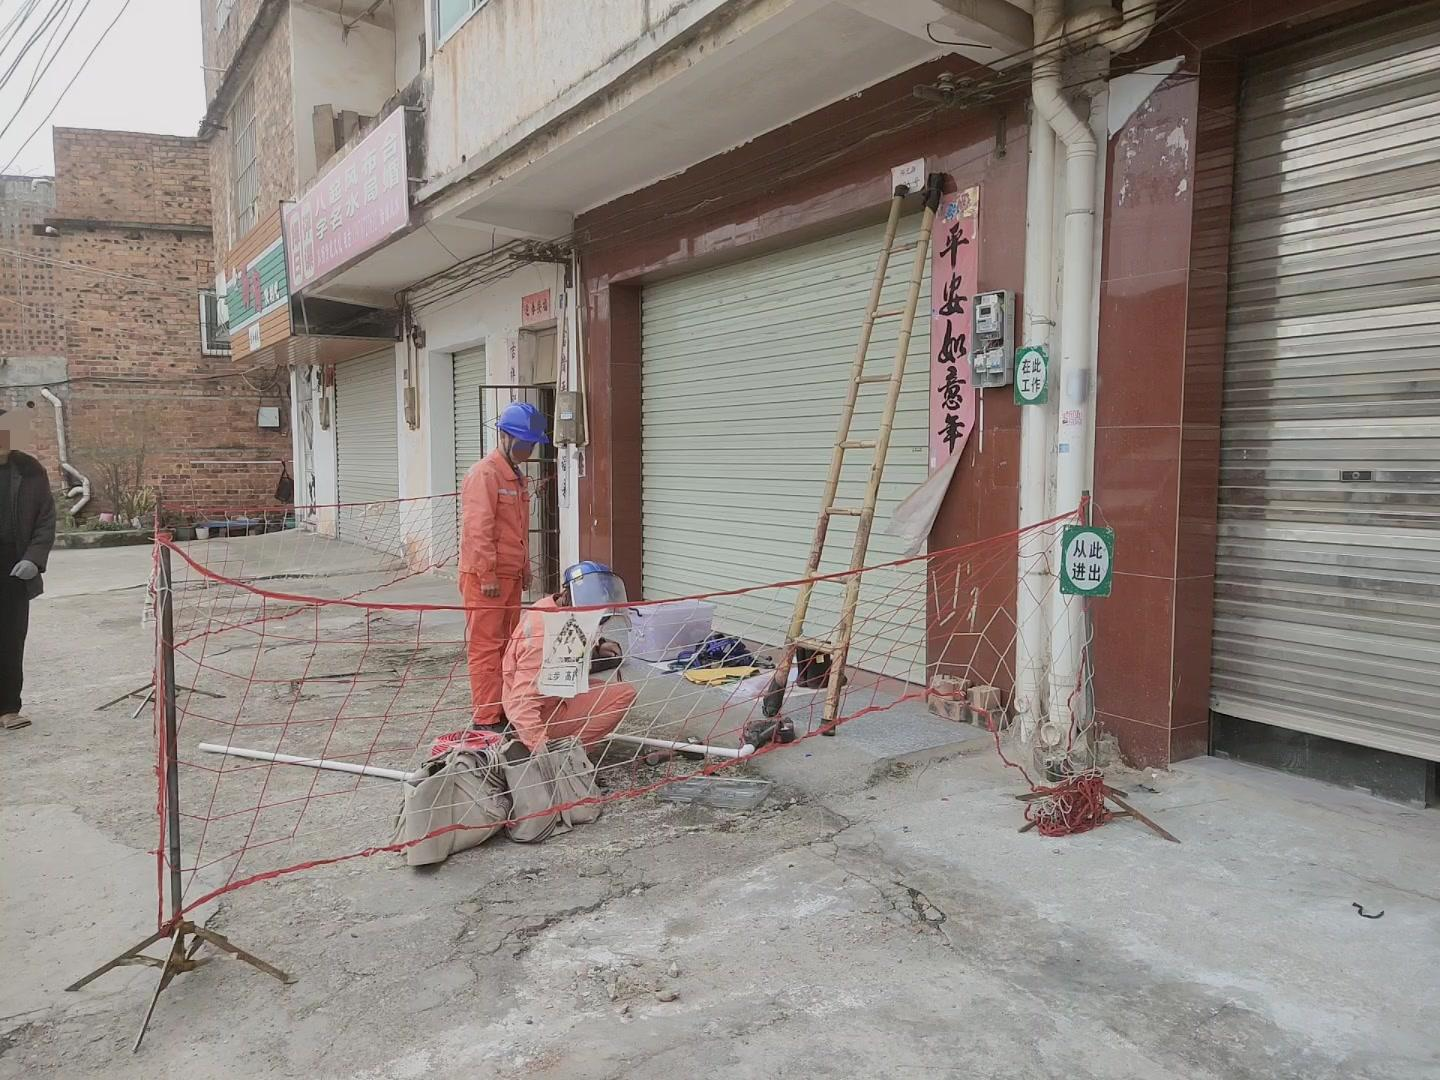halt: (497, 405, 549, 461)
unhalt: (3, 410, 23, 457)
